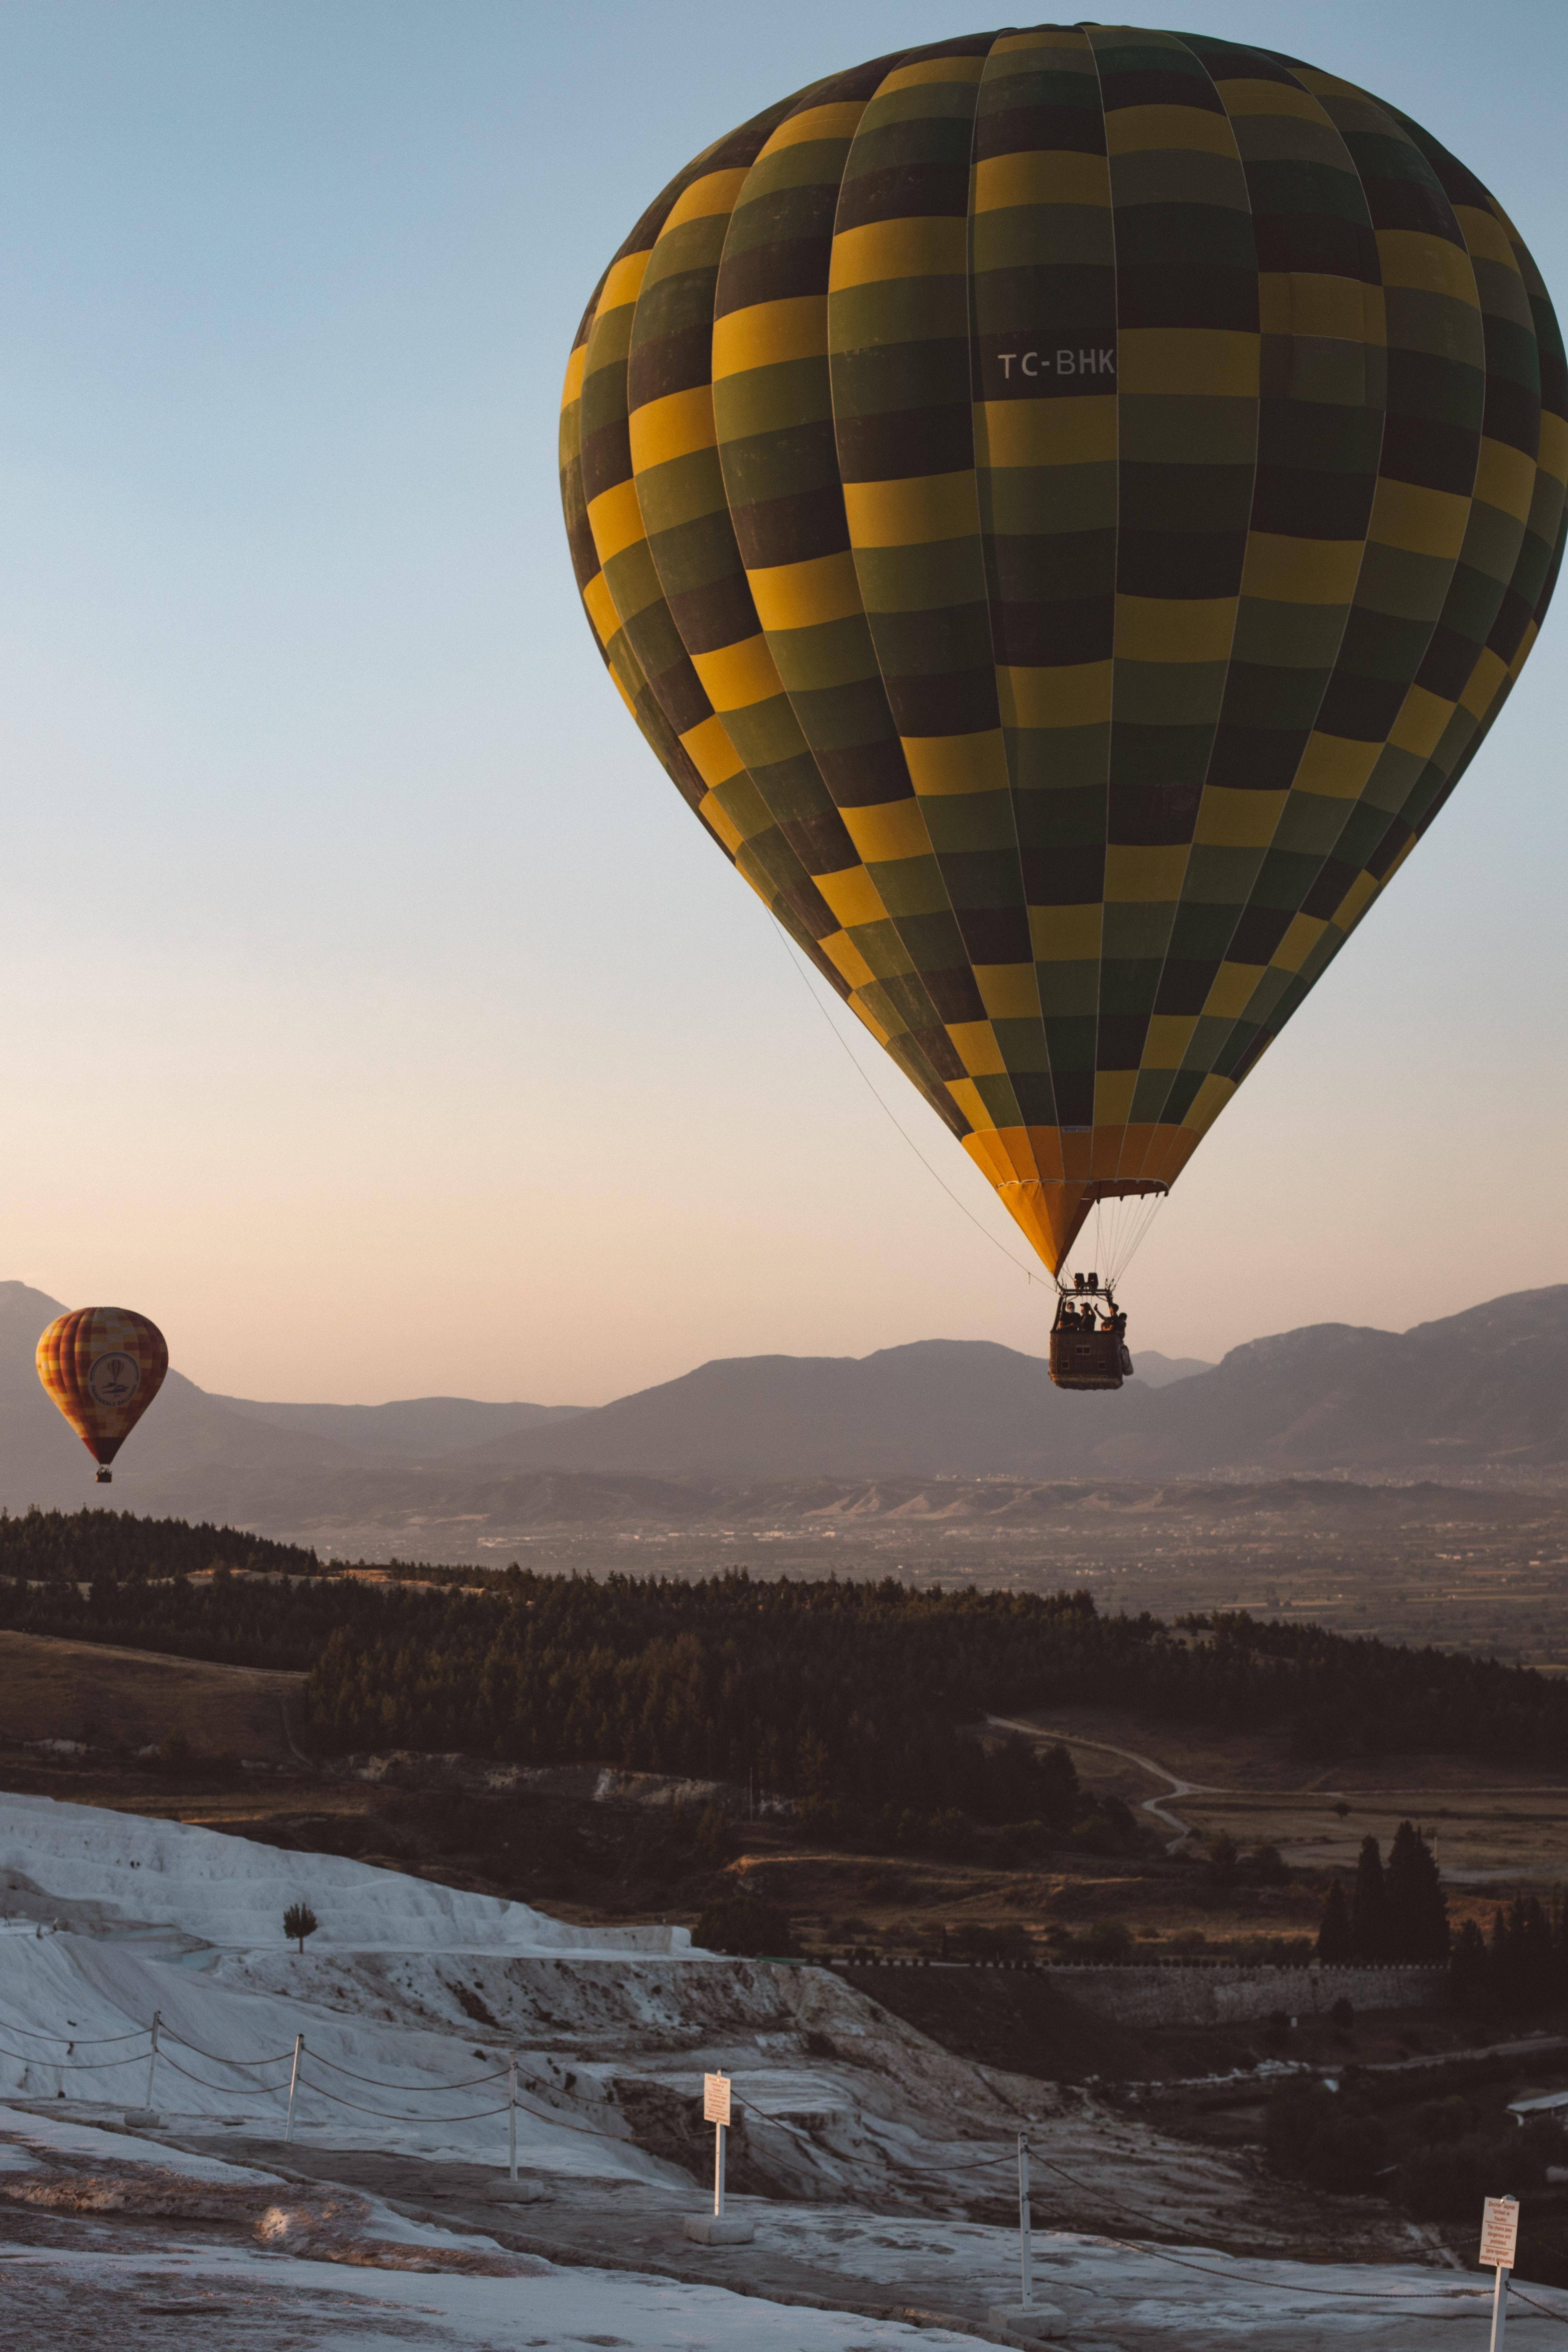hot air ballon: (548, 9, 1566, 1384), (28, 1295, 194, 1501)
